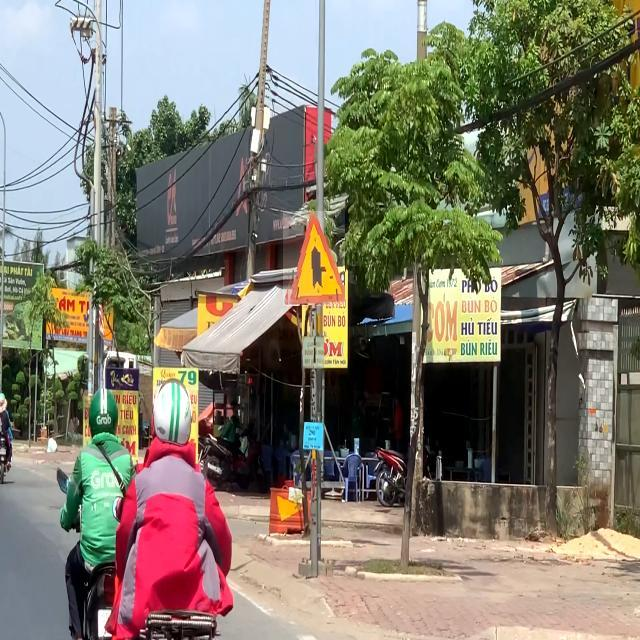W-207b: (283, 211, 345, 306)
